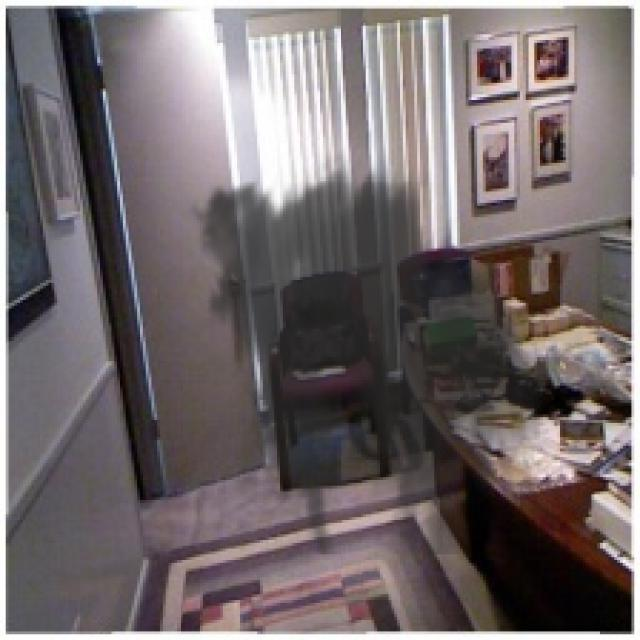smoke: (180, 146, 563, 554)
